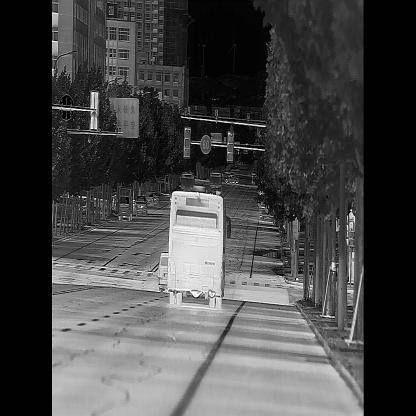car: (166, 185, 233, 315), (258, 178, 279, 222), (157, 249, 172, 293), (117, 185, 133, 225), (179, 170, 195, 199), (208, 171, 222, 200), (221, 171, 240, 186), (135, 195, 148, 216), (128, 198, 138, 219), (150, 189, 160, 210), (144, 190, 154, 209), (250, 170, 259, 187), (236, 160, 241, 166)
